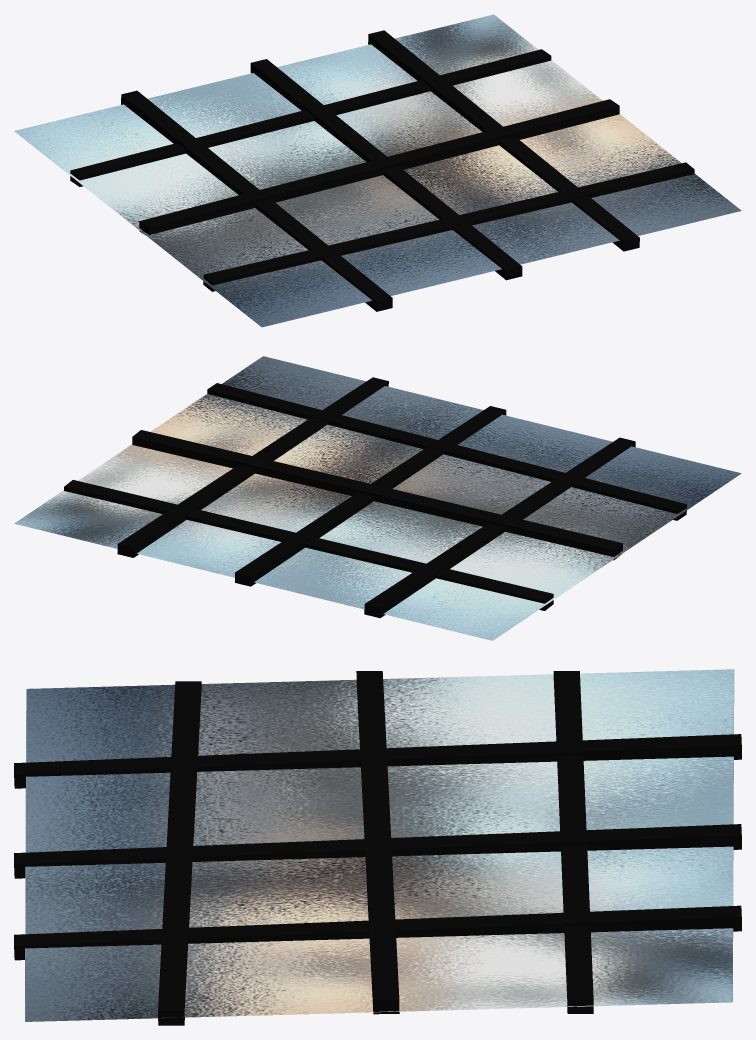
File: TopGlass.fbx
3 renders of one model, top to bottom at view 1: azimuth 30°, elevation 25°; view 2: azimuth 150°, elevation 25°; view 3: azimuth 270°, elevation 25°, orthographic. The views are drawn at different scales.
Visible parts, largest first — view 1: TopGlass.002; view 2: TopGlass.002; view 3: TopGlass.002.
Part boxes in pixels (x1,y1,x2,y2): TopGlass.002: (14,14,741,327); TopGlass.002: (14,356,741,640); TopGlass.002: (14,669,741,1025).
Bounding box in the file's own units: 3005 × 183 × 2771.
